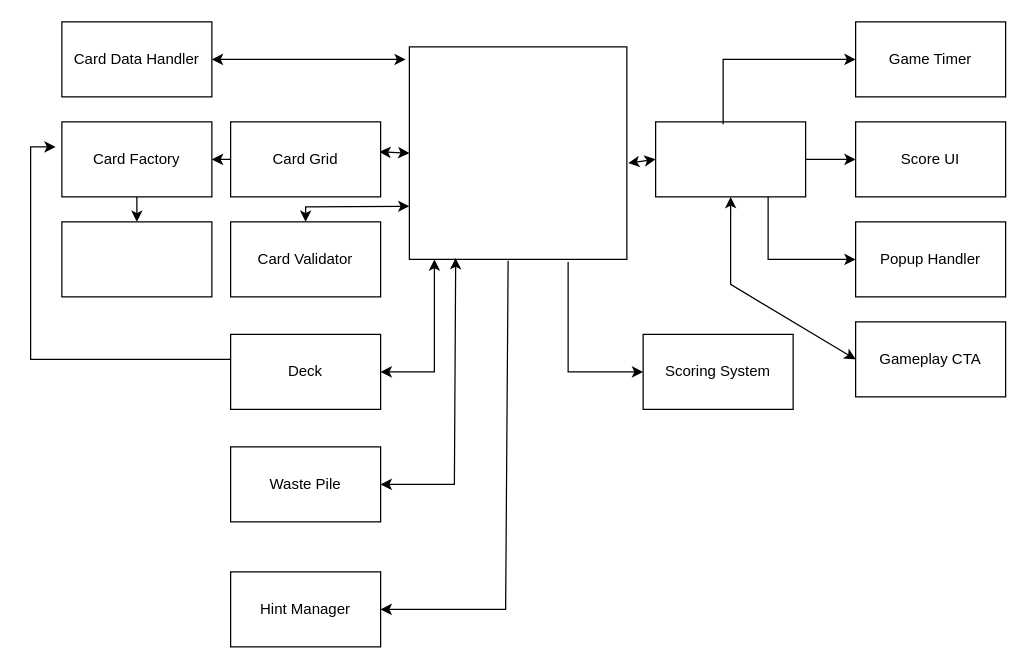
This 1028x669 diagram has some shape labels left out. Here are the shapes that lost their labels. From the top down, the centre of each, then its label:
point (517, 152): Gameplay Controller
point (730, 159): Game UI
point (136, 259): Card
